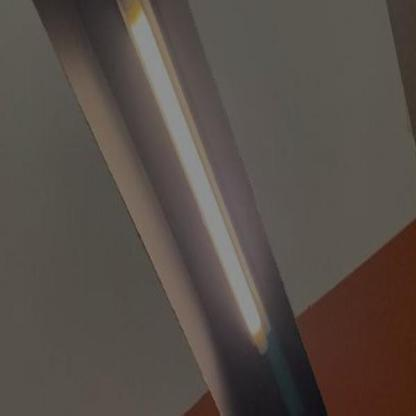light_on: (101, 0, 302, 375)
